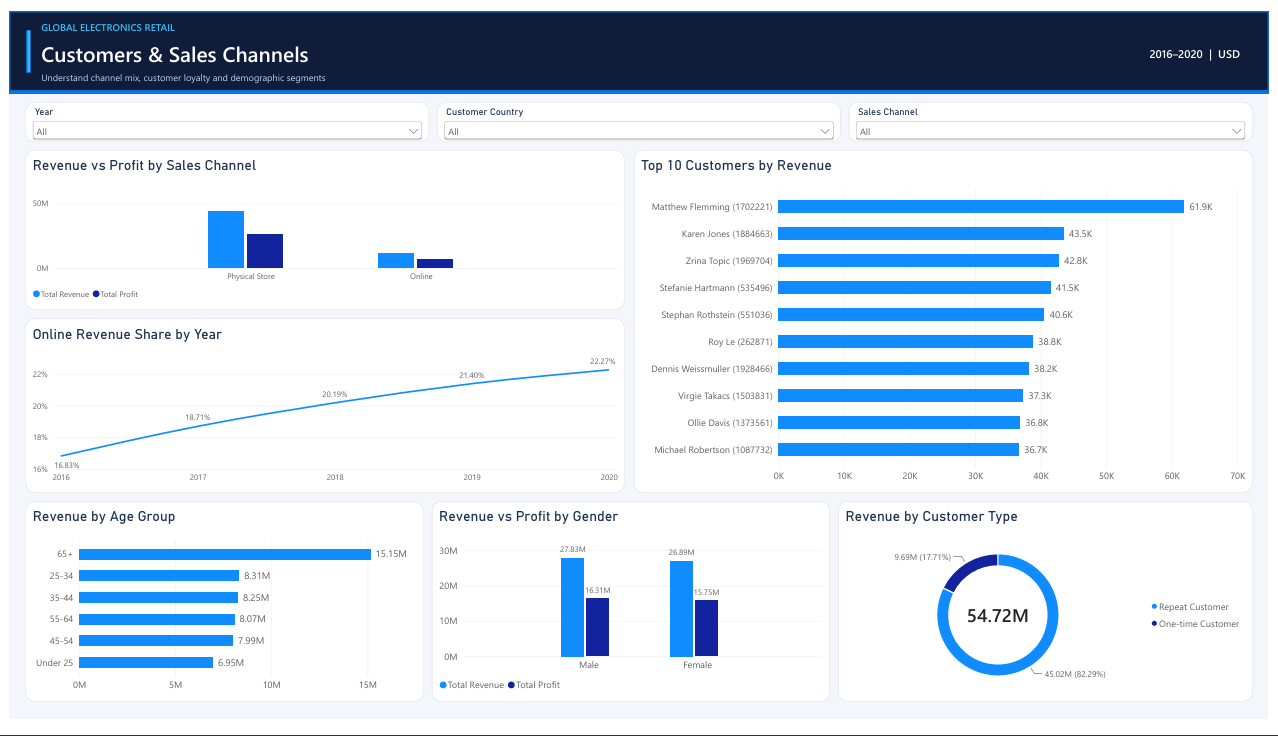

What the dashboard file says about the page in this screenshot:
{"tool":"powerbi","page":{"name":"Customers & Sales Channels","canvas":[1920,1080],"ordinal":4},"visuals":[{"type":"clusteredColumnChart","title":"Revenue vs Profit by Sales Channel","fields":{"Category":["public sales.Sales Channel"],"Y":["public sales.Total Revenue","public sales.Total Profit"]},"box":[24,211,914,244],"z":0},{"type":"shape","box":[0,0,1920,121],"z":1000},{"type":"shape","box":[0,121,1920,4],"z":2000},{"type":"shape","box":[26,28,6,65],"z":3000},{"type":"lineChart","title":"Online Revenue Share by Year","fields":{"Category":["DimDate.Year"],"Y":["public sales.Online Revenue Share %"]},"box":[24,468,914,266],"z":4000},{"type":"donutChart","title":"Revenue by Customer Type","fields":{"Category":["public customers.Customer Type"],"Y":["public sales.Total Revenue"]},"box":[1264,747,632,306],"z":5000},{"type":"clusteredBarChart","title":"Top 10 Customers by Revenue","fields":{"Category":["public customers.Customer Label"],"Y":["public sales.Total Revenue"]},"box":[952,211,944,523],"z":6000},{"type":"clusteredBarChart","title":"Revenue by Age Group","fields":{"Category":["public sales.Age Group"],"Y":["public sales.Total Revenue"]},"box":[24,747,607,306],"z":7000},{"type":"clusteredColumnChart","title":"Revenue vs Profit by Gender","fields":{"Category":["public customers.gender"],"Y":["public sales.Total Revenue","public sales.Total Profit"]},"box":[644,747,607,306],"z":8000},{"type":"slicer","fields":{"Values":["DimDate.Year"]},"box":[24,138,616,61],"z":9000},{"type":"slicer","fields":{"Values":["public customers.country"]},"box":[652,138,616,61],"z":10000},{"type":"slicer","fields":{"Values":["public sales.Sales Channel"]},"box":[1280,138,616,61],"z":11000},{"type":"textbox","box":[48,13,1330,27],"z":12000},{"type":"textbox","box":[48,42,1450,43],"z":13000},{"type":"textbox","box":[48,91,1330,25],"z":14000},{"type":"textbox","box":[1545,52,332,43],"z":15000},{"type":"textbox","box":[26,1057,1840,22],"z":16000}]}

Visuals, with their boxes in screenshot pixels (x1, y1, x2, y2), scaled from the page's 1920x1080 canvas onto the 1278x736 screenshot:
"Revenue vs Profit by Sales Channel" clusteredColumnChart: crop(16, 144, 624, 310)
shape: crop(0, 0, 1277, 82)
shape: crop(0, 82, 1277, 85)
shape: crop(17, 19, 21, 63)
"Online Revenue Share by Year" lineChart: crop(16, 319, 624, 500)
"Revenue by Customer Type" donutChart: crop(841, 509, 1262, 718)
"Top 10 Customers by Revenue" clusteredBarChart: crop(634, 144, 1262, 500)
"Revenue by Age Group" clusteredBarChart: crop(16, 509, 420, 718)
"Revenue vs Profit by Gender" clusteredColumnChart: crop(429, 509, 833, 718)
slicer - DimDate.Year: crop(16, 94, 426, 136)
slicer - public customers.country: crop(434, 94, 844, 136)
slicer - public sales.Sales Channel: crop(852, 94, 1262, 136)
textbox: crop(32, 9, 917, 27)
textbox: crop(32, 29, 997, 58)
textbox: crop(32, 62, 917, 79)
textbox: crop(1028, 35, 1249, 65)
textbox: crop(17, 720, 1242, 735)
